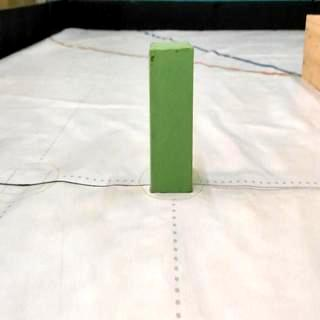greenbox: (149, 42, 192, 195)
